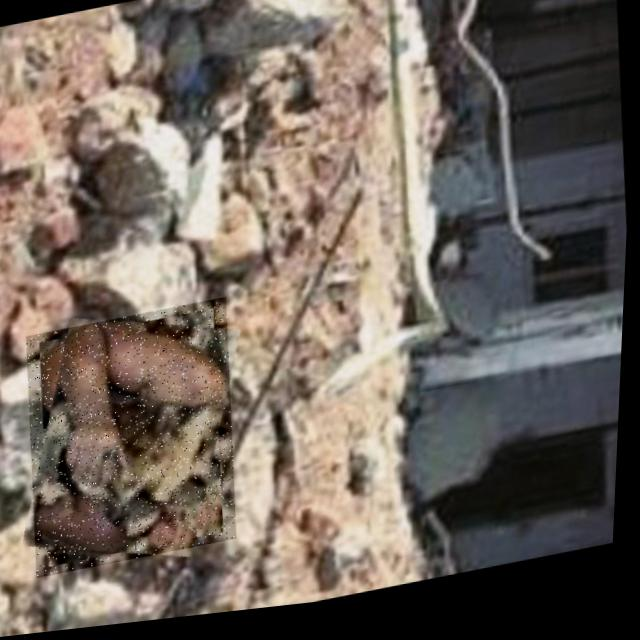Person in Rubble: (19, 301, 249, 581)
